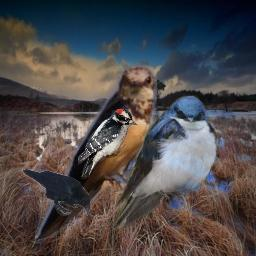Crow: (22, 169, 90, 216)
Swallow: (35, 65, 157, 246), (110, 94, 220, 230)
Woodpecker: (78, 109, 140, 180)
